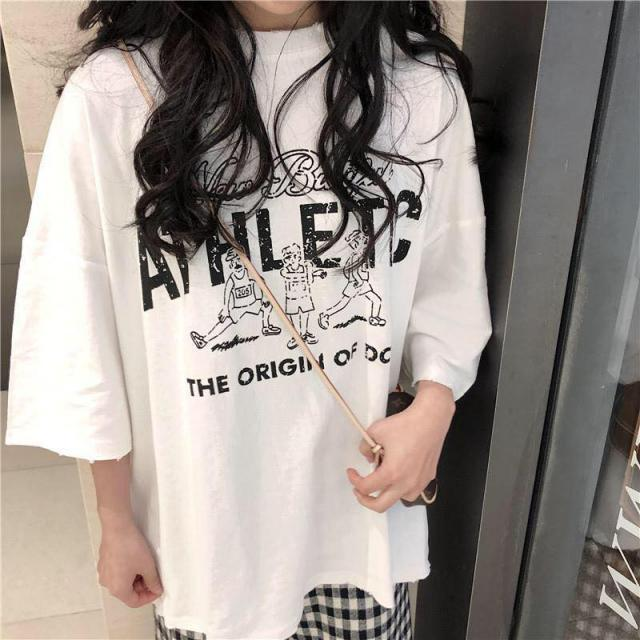Shirt: (4, 15, 504, 640)
